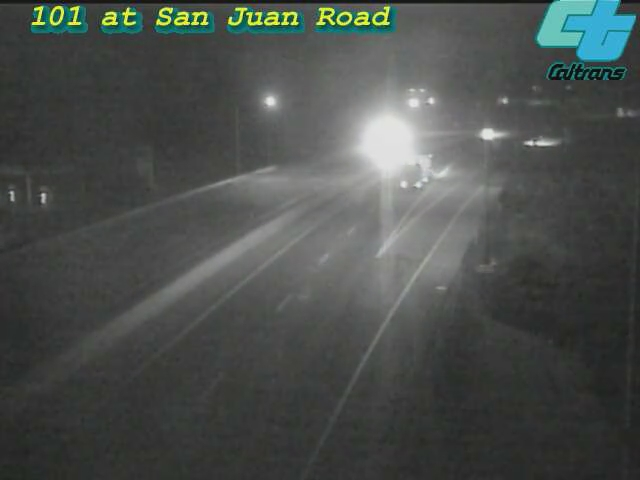vehicle: (375, 135, 455, 215), (355, 118, 405, 168), (462, 109, 512, 159), (515, 116, 565, 166), (604, 87, 640, 137)
